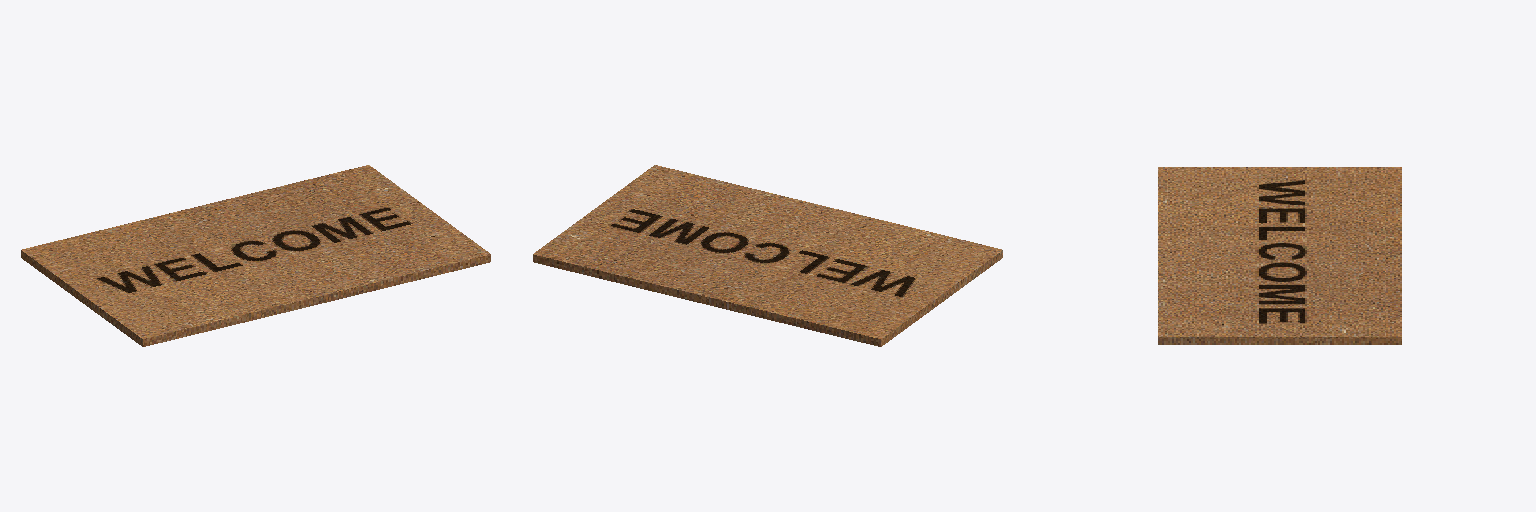
The picture shows the model from 3 angles: view 1: azimuth 30°, elevation 25°; view 2: azimuth 150°, elevation 25°; view 3: azimuth 270°, elevation 25°; orthographic projection.
Parts seen in each view (by area): view 1: Doormat_Q; view 2: Doormat_Q; view 3: Doormat_Q.
Boxes of the visible parts, box(x1,y1,x2,y2) form: Doormat_Q: box(21, 165, 490, 346); Doormat_Q: box(533, 165, 1002, 346); Doormat_Q: box(1158, 167, 1401, 344).
Bounding box in the file's own units: 0.9058 × 0.0197 × 0.5512.
Materials: 1 (1 with a texture image).